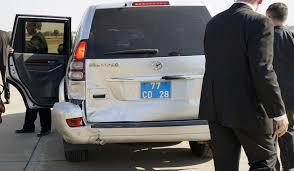boot-dent: (92, 64, 146, 114)
rear-bumper-dent: (52, 103, 117, 149)
